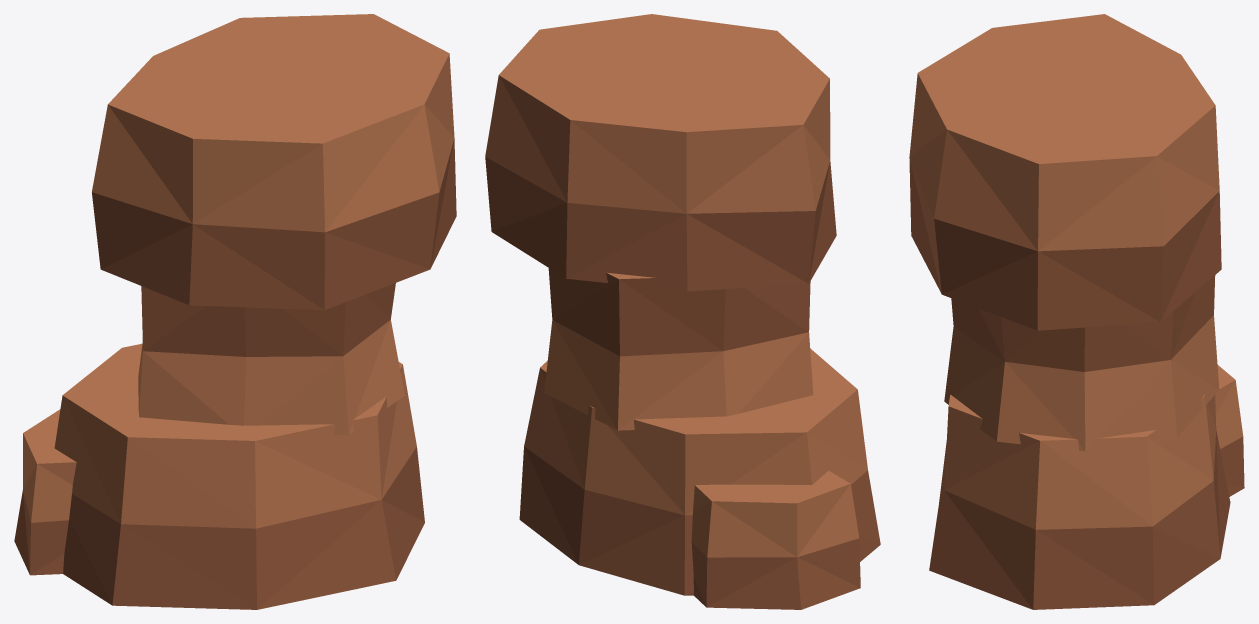
Rendered from rock_sandstone_02.glb.
3 renders of one model, left to right at view 1: azimuth 30°, elevation 25°; view 2: azimuth 150°, elevation 25°; view 3: azimuth 270°, elevation 25°, orthographic. The views are drawn at different scales.
Parts seen in each view (by area): view 1: rock_sandstone_02; view 2: rock_sandstone_02; view 3: rock_sandstone_02.
Part boxes in pixels (bbox=[...]): rock_sandstone_02: bbox=[14, 14, 456, 609]; rock_sandstone_02: bbox=[485, 14, 880, 609]; rock_sandstone_02: bbox=[909, 14, 1244, 609].
Size of what is drawn, in the model's own units: 2.3 by 2.64 by 1.75.
Materials: 1 (1 with a texture image).
